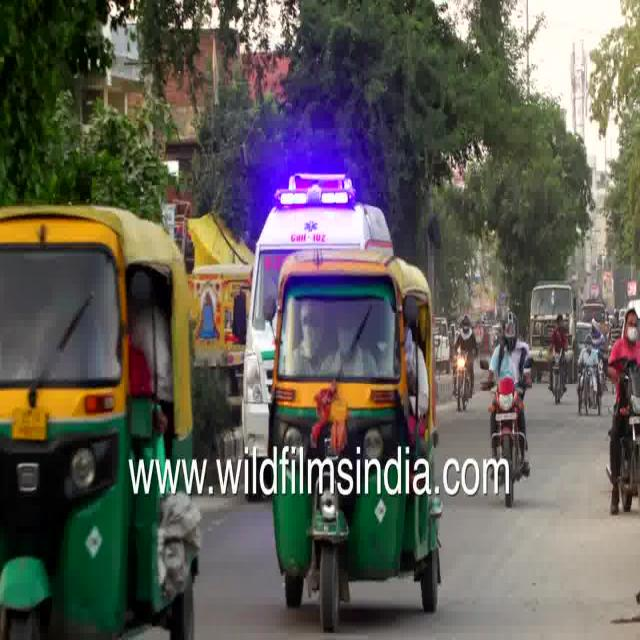ambulance: (246, 176, 400, 265)
